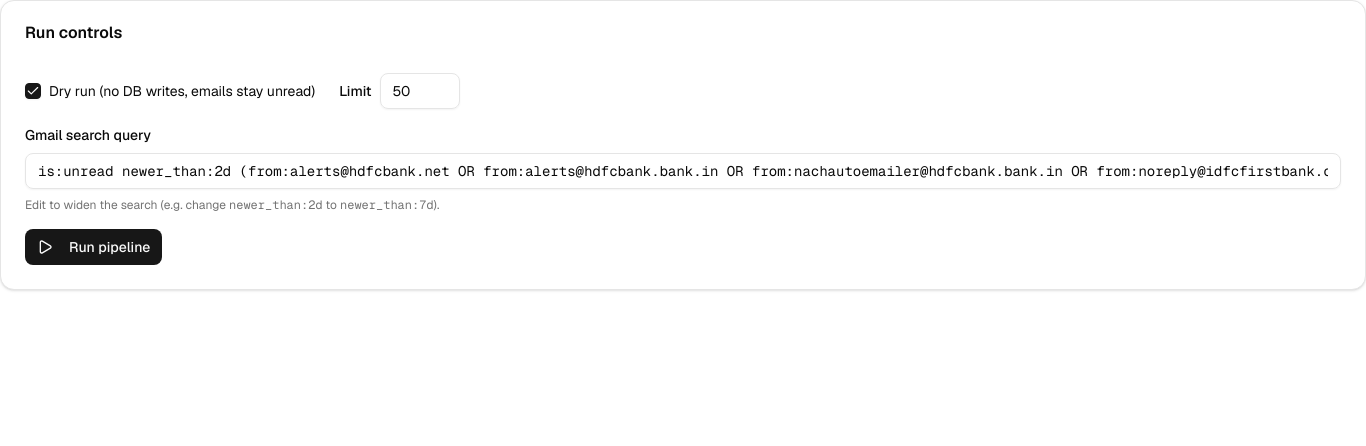
Test: DebugRunner › displays pipeline error when the run cannot be created
The width and height of the screenshot is (1366, 446).
What coordinates should you click on to do the following:
click the button "Run pipeline"
I would click on:
 (94, 247)
Its box is [25,229,162,265].
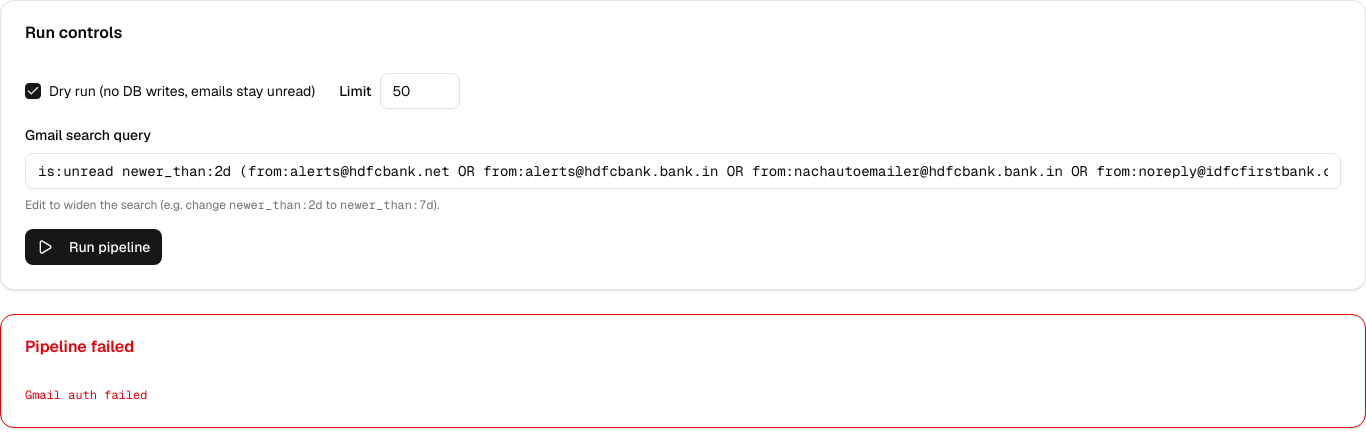
Result: the text "Pipeline failed" is shown at [25,336,134,357]
Result: the text "Gmail auth failed" is shown at [25,387,147,403]
